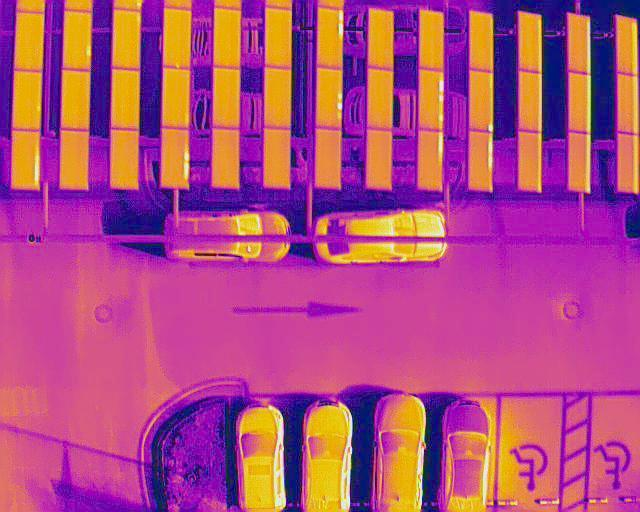Cell: (64, 11, 93, 71), (470, 70, 493, 130)
Cell-Multi: (316, 67, 343, 130), (418, 70, 444, 131)
No-Anomaly: (161, 68, 192, 129), (110, 69, 139, 132), (264, 66, 293, 129), (112, 9, 141, 71), (13, 71, 42, 132), (61, 70, 90, 131), (15, 12, 44, 72), (213, 66, 241, 128), (110, 128, 139, 187), (60, 131, 89, 189), (164, 9, 192, 69), (265, 6, 292, 68), (264, 128, 291, 189), (215, 7, 242, 68), (213, 128, 240, 188), (316, 128, 342, 189), (366, 127, 392, 188), (369, 10, 394, 71), (368, 67, 392, 130), (420, 10, 444, 71), (518, 71, 541, 133), (469, 12, 493, 71), (519, 14, 542, 72), (617, 72, 638, 135), (616, 16, 638, 76), (518, 133, 541, 190), (569, 134, 591, 193), (569, 16, 591, 75), (570, 73, 591, 134), (619, 132, 639, 193)
Unclassified: (161, 127, 190, 188), (12, 128, 40, 190), (318, 8, 344, 68), (418, 128, 443, 190), (469, 131, 492, 190)
